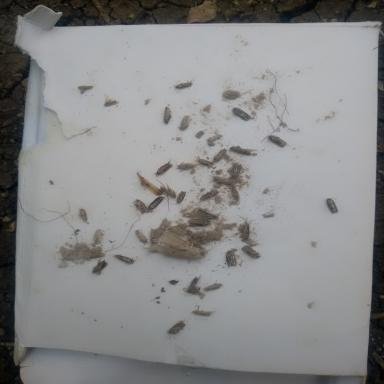abw: (146, 231, 213, 263)
pbw: (154, 178, 176, 198), (228, 144, 258, 156), (151, 158, 172, 175), (185, 274, 201, 296), (109, 253, 141, 264), (231, 105, 253, 120), (195, 190, 218, 204), (144, 195, 166, 209), (149, 224, 166, 242), (91, 257, 108, 275), (267, 134, 290, 147), (241, 245, 261, 258), (133, 198, 149, 214), (209, 147, 226, 162), (208, 174, 233, 184), (191, 304, 211, 316), (169, 320, 186, 334), (196, 209, 217, 220), (135, 229, 147, 248), (237, 223, 250, 240), (173, 78, 193, 89), (170, 191, 186, 204), (103, 93, 119, 106), (169, 225, 187, 236), (76, 84, 98, 93), (326, 197, 338, 213), (230, 160, 240, 179), (163, 106, 173, 124), (176, 161, 196, 170), (76, 206, 87, 222), (179, 114, 190, 130), (226, 250, 237, 266), (203, 282, 222, 291), (188, 219, 210, 226), (197, 158, 214, 167), (230, 184, 239, 198), (93, 229, 102, 242), (208, 134, 222, 142)
